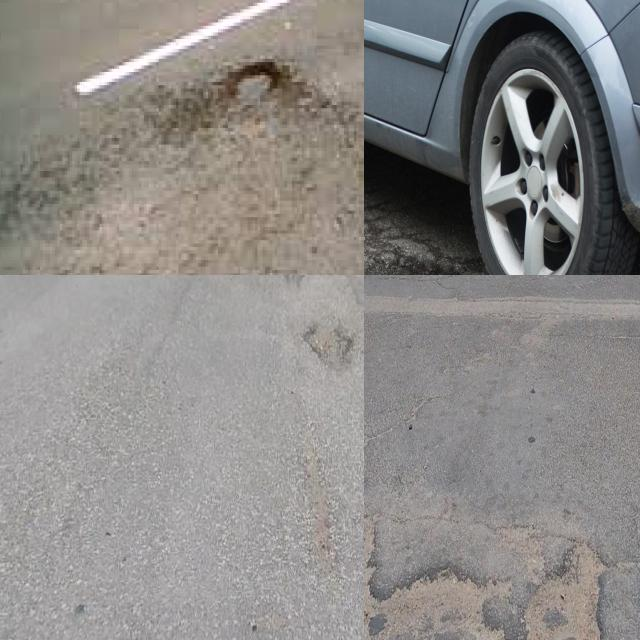Pothole: (518, 537, 610, 640), (304, 318, 357, 367), (225, 62, 280, 108), (286, 275, 307, 291)
